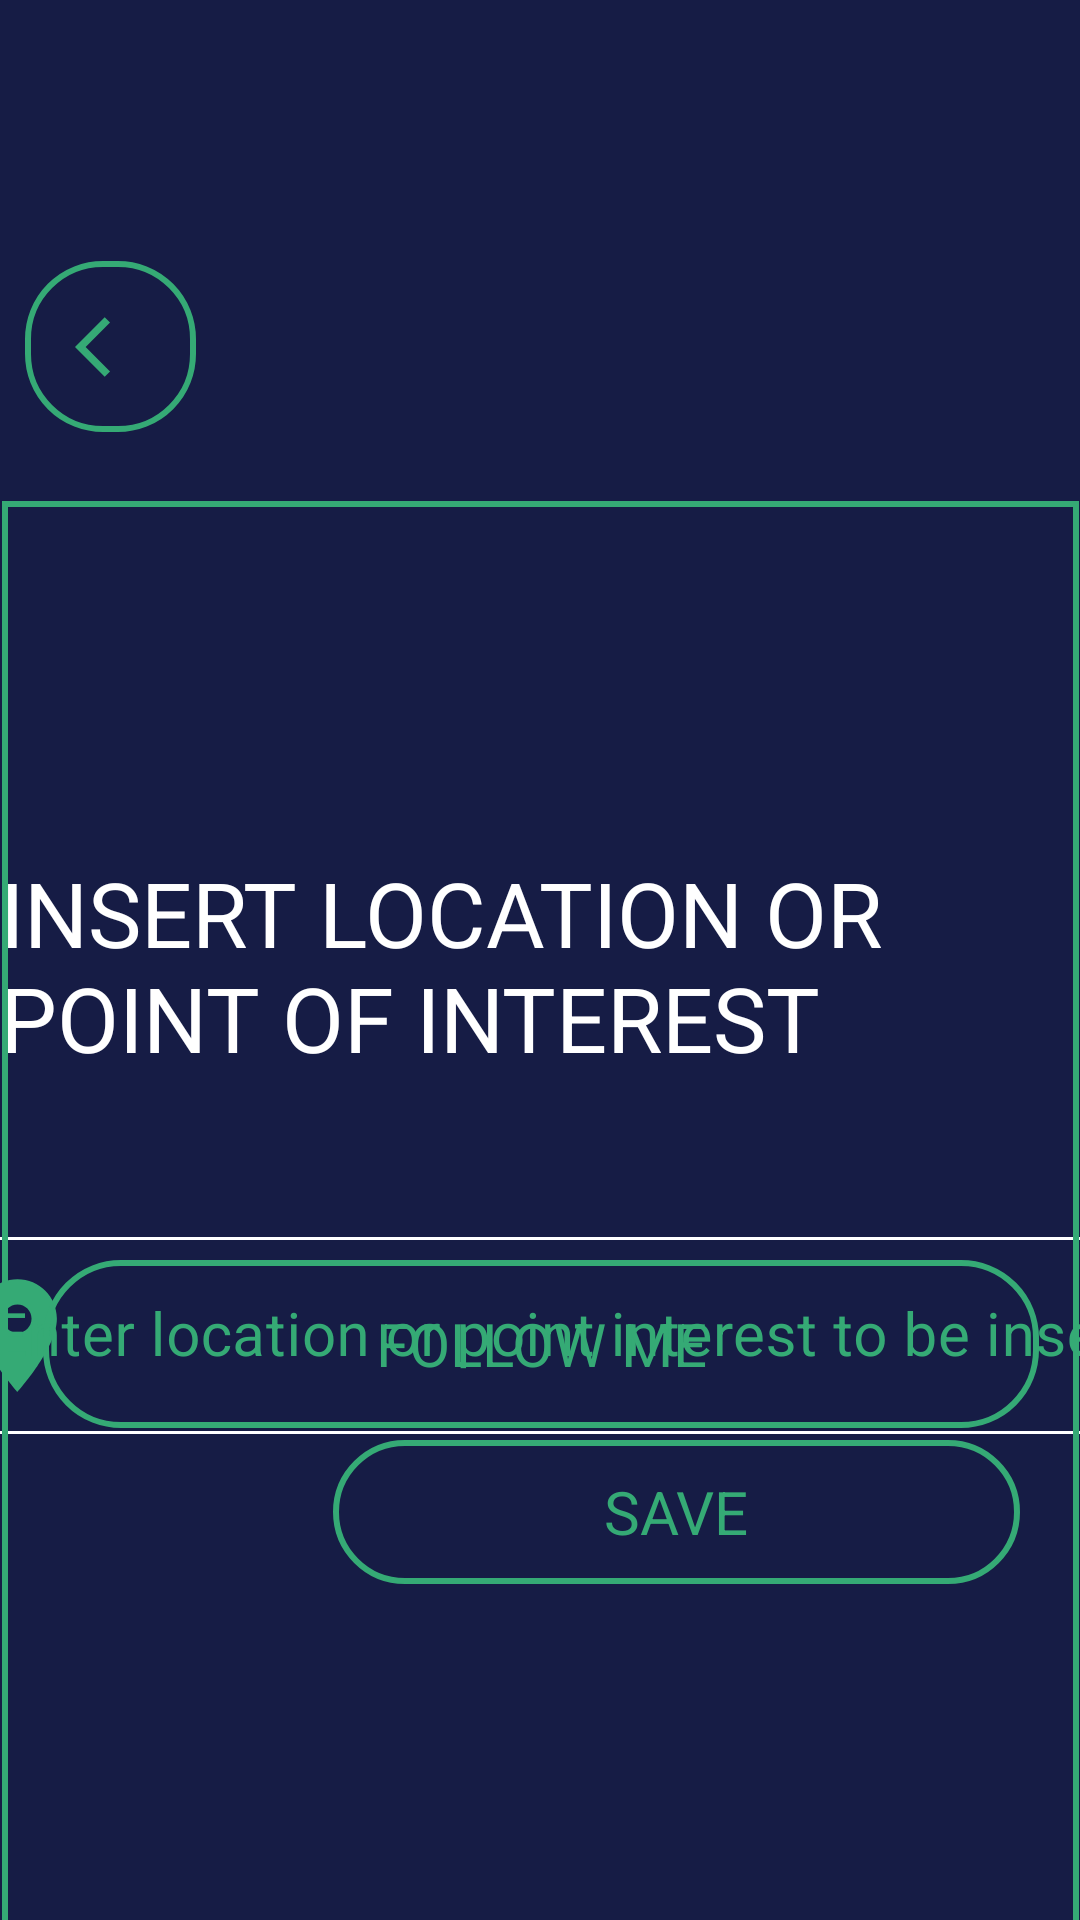

Where to tap for icons on this 1080×1920 app screen, as [x,y]:
back: [110,346]
